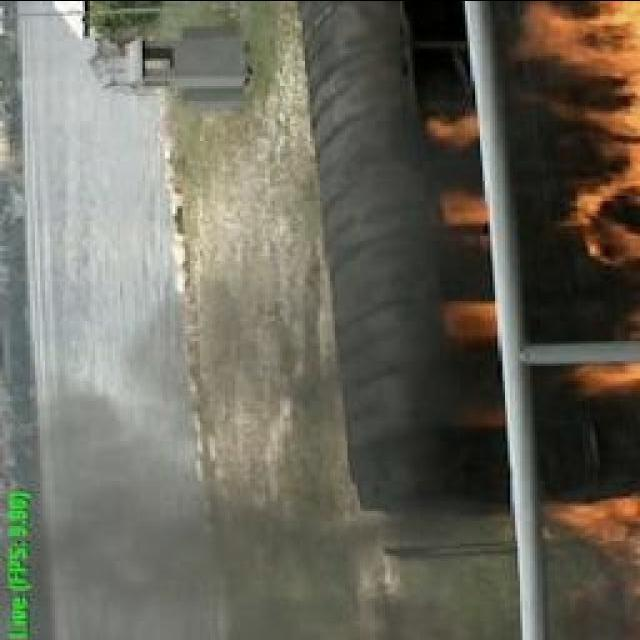Fire: (522, 0, 637, 273), (434, 280, 504, 436), (533, 496, 640, 560), (538, 341, 640, 402), (445, 104, 493, 228)
